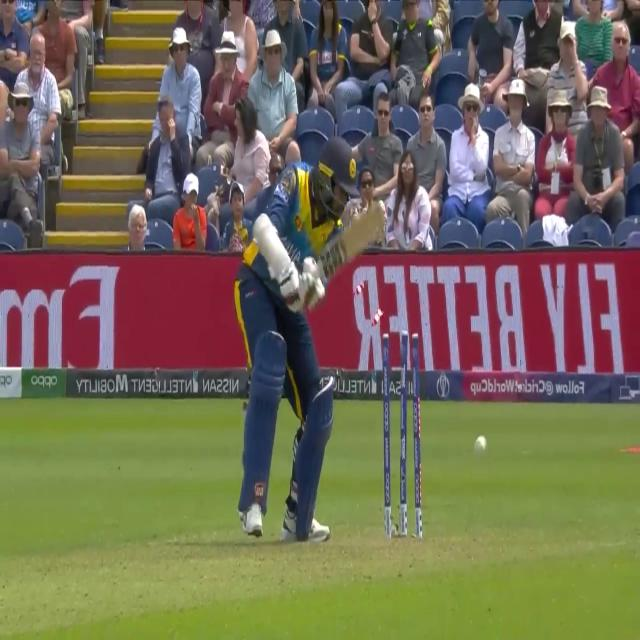ball: (472, 423, 494, 464)
